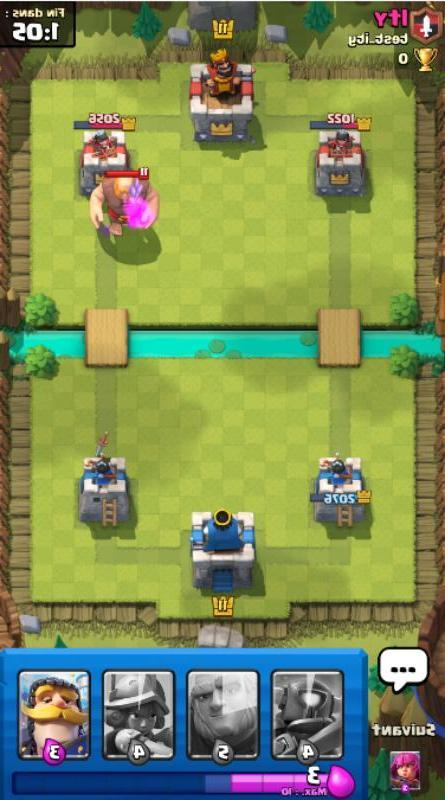enemy_giant: (86, 166, 163, 242)
